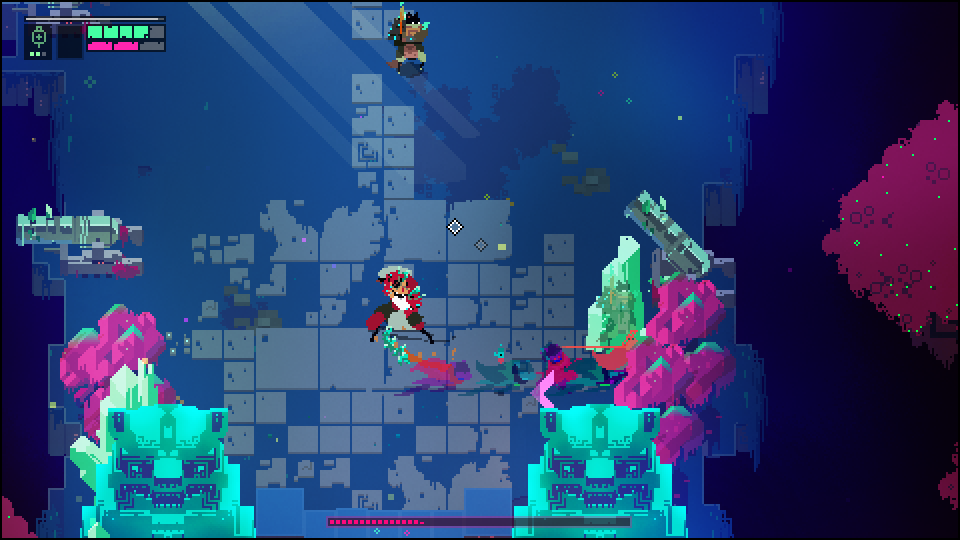hanged_man: (360, 263, 445, 375)
player: (590, 337, 654, 377)
